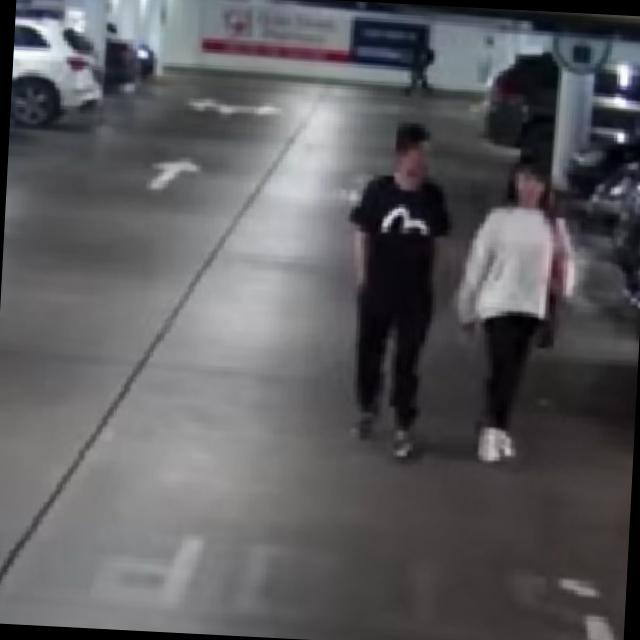person: (448, 148, 586, 466), (336, 118, 458, 461), (404, 42, 435, 97)
